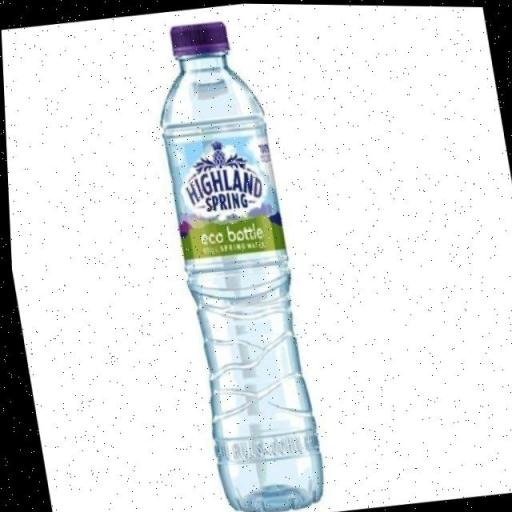plastic: (140, 8, 328, 512)
